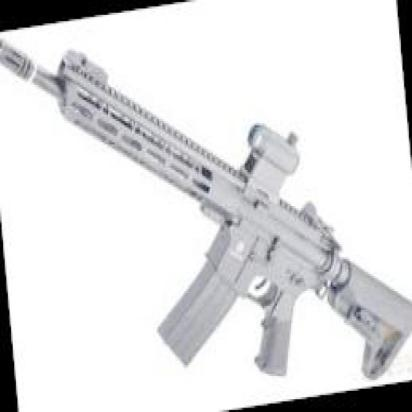Gun: (18, 50, 395, 374)
